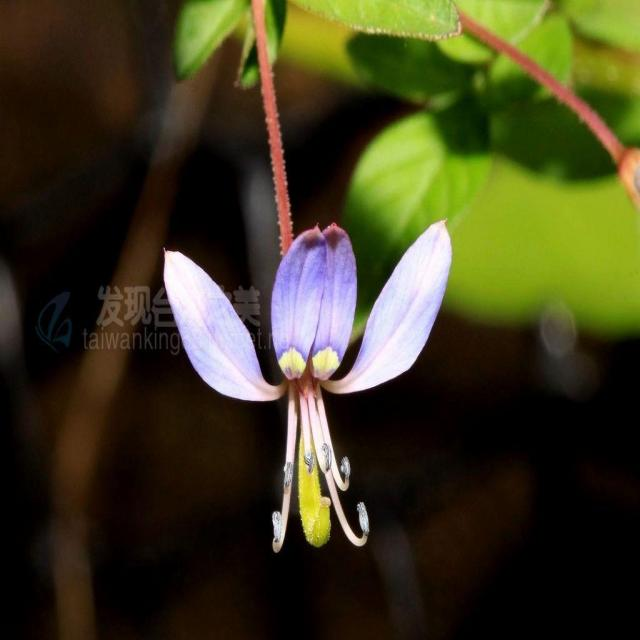organic waste: (164, 215, 458, 551)
